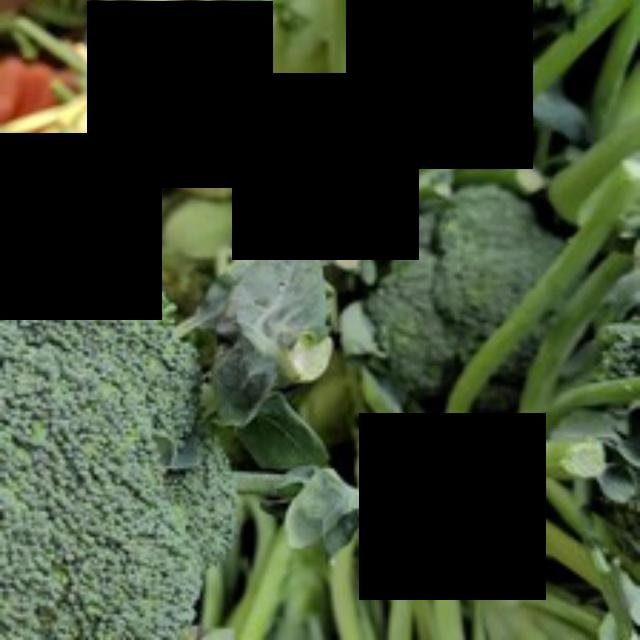broccoli: (0, 214, 291, 637)
